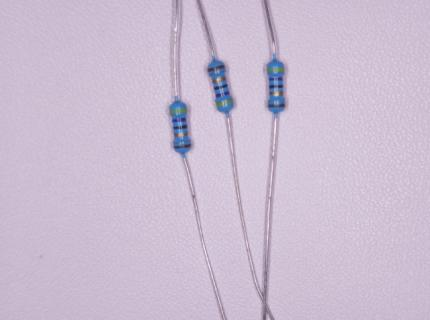Black band: (213, 84, 229, 91), (173, 125, 188, 130), (269, 85, 284, 89)
Brown band: (208, 64, 226, 72), (174, 143, 192, 149), (268, 104, 286, 108)
Gold band: (212, 76, 227, 84), (269, 91, 284, 96), (174, 132, 188, 137)
Violet band: (215, 91, 231, 98), (172, 117, 187, 123), (268, 77, 283, 81)
Yellow band: (215, 99, 234, 107), (169, 108, 188, 114), (267, 68, 285, 72)
